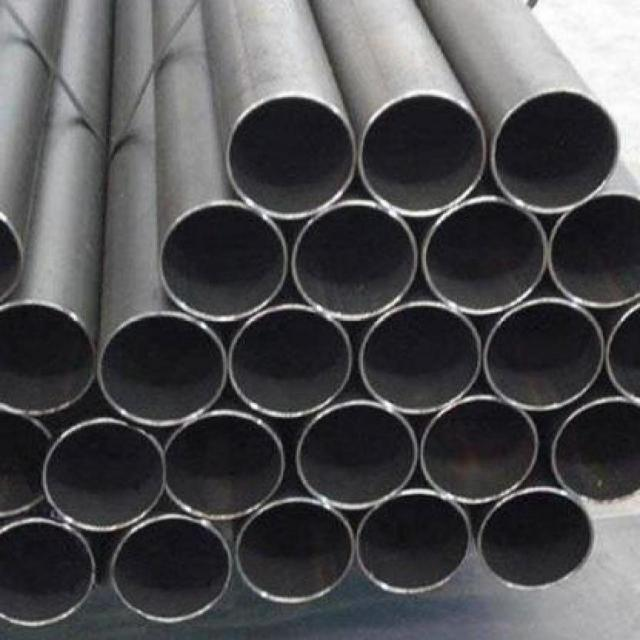pipe: (226, 93, 357, 219), (357, 92, 487, 217), (491, 89, 621, 213), (291, 200, 419, 322), (160, 202, 287, 322), (424, 198, 549, 317), (229, 304, 354, 420), (43, 417, 165, 532), (360, 301, 482, 415), (483, 298, 606, 410), (164, 409, 286, 520), (295, 400, 418, 510), (109, 516, 234, 624), (420, 394, 539, 504), (236, 497, 355, 605), (479, 487, 596, 593), (356, 491, 471, 596), (0, 300, 97, 414), (548, 191, 639, 310), (0, 517, 96, 628), (550, 397, 640, 505), (0, 407, 60, 515), (604, 299, 640, 403), (0, 205, 28, 311)
